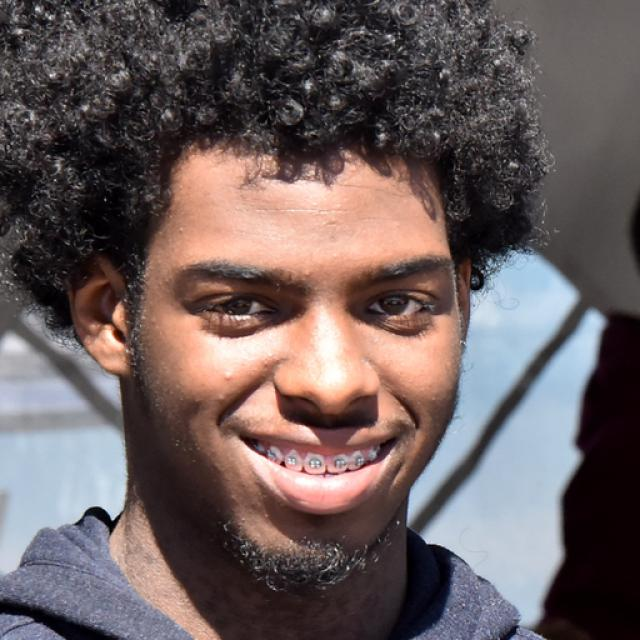Acne: (257, 348, 293, 377), (218, 366, 238, 389), (291, 262, 318, 279), (209, 389, 230, 410)
